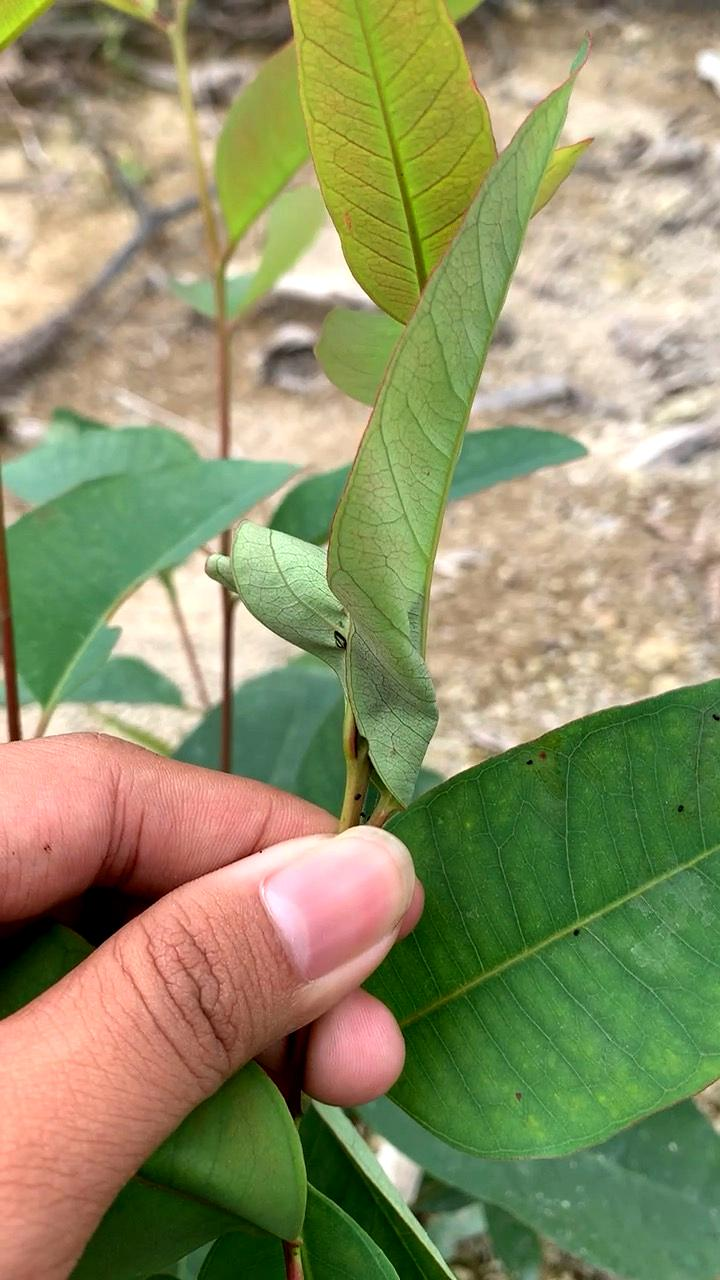Leaf Roller - Leaf: (183, 493, 469, 764)
